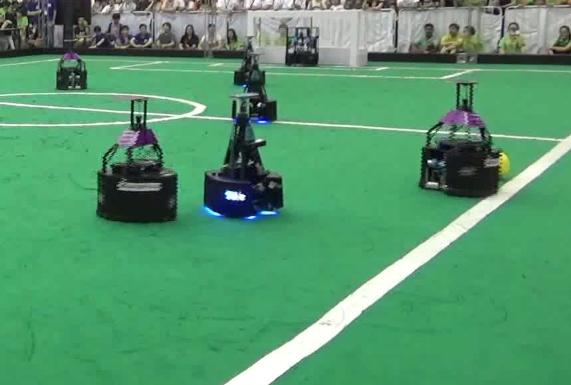robot: (200, 92, 287, 221), (94, 94, 179, 224), (416, 79, 501, 198), (232, 54, 278, 123), (53, 37, 90, 90)
